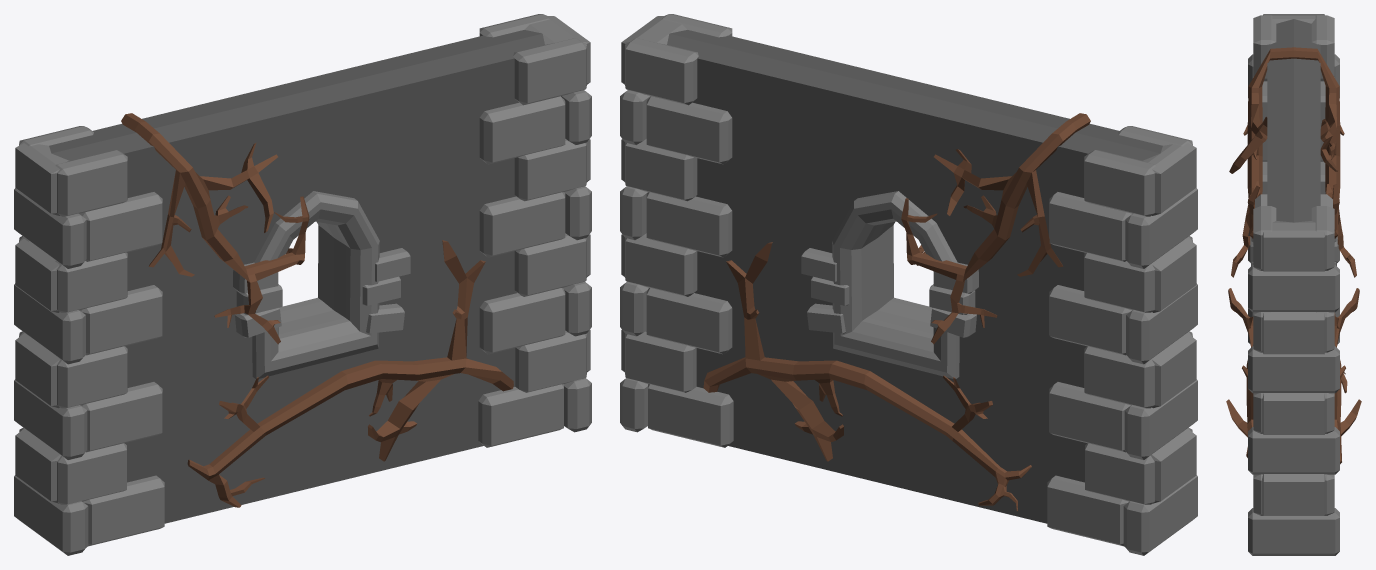
Rendered from DungeonWallWindowOvergrown.fbx.
3 views of the same model, side by side, from view 1: azimuth 30°, elevation 25°; view 2: azimuth 150°, elevation 25°; view 3: azimuth 270°, elevation 25° (orthographic). The views are drawn at different scales.
Parts seen in each view (by area): view 1: DungeonWallWindowOvergrown; view 2: DungeonWallWindowOvergrown; view 3: DungeonWallWindowOvergrown.
Part boxes in pixels (x1=…): DungeonWallWindowOvergrown: x1=14, y1=14, x2=591, y2=555; DungeonWallWindowOvergrown: x1=620, y1=14, x2=1197, y2=555; DungeonWallWindowOvergrown: x1=1226, y1=14, x2=1361, y2=555.
Bounding box in the file's own units: 520 × 361 × 133.
Materials: 1 (1 with a texture image).
